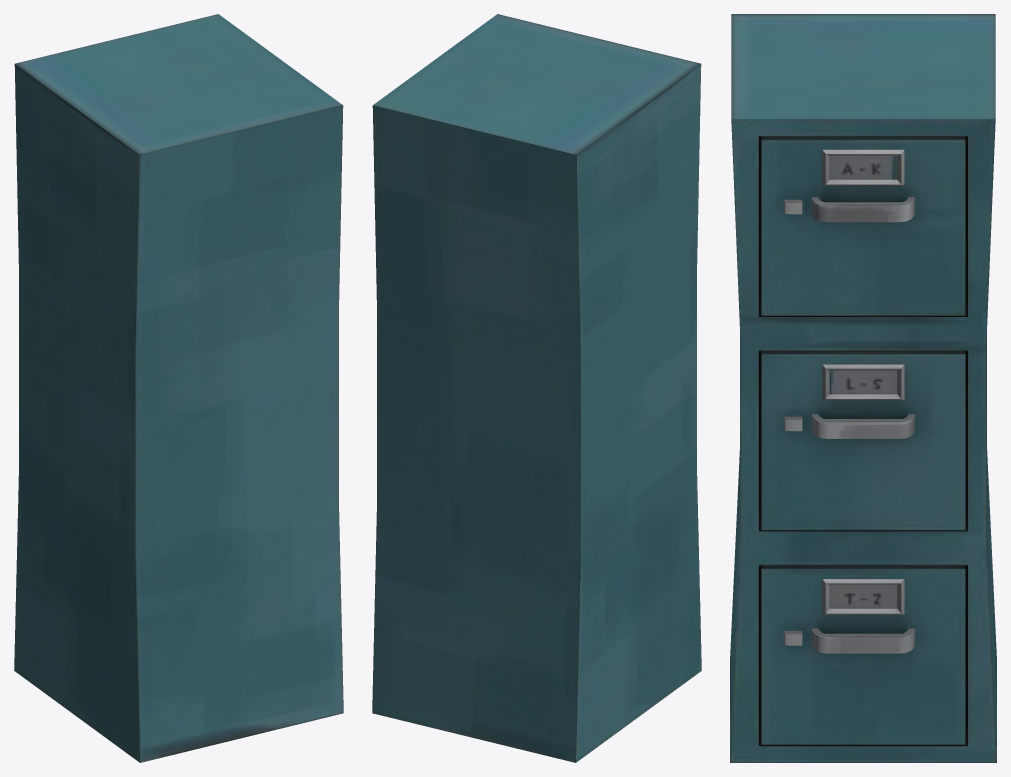
3 renders of one model, left to right at view 1: azimuth 30°, elevation 25°; view 2: azimuth 150°, elevation 25°; view 3: azimuth 270°, elevation 25°, orthographic. The views are drawn at different scales.
Visible parts, largest first — view 1: body0_model0_lod0_mesh0; view 2: body0_model0_lod0_mesh0; view 3: body0_model0_lod0_mesh0.
Boxes of the visible parts, x1,y1,x2,y2 form: body0_model0_lod0_mesh0: (14,14,343,762); body0_model0_lod0_mesh0: (372,14,701,762); body0_model0_lod0_mesh0: (730,14,996,762).
Size of the model in its own units: 26.73 by 69.78 by 26.21.
Materials: 1 (1 with a texture image).
